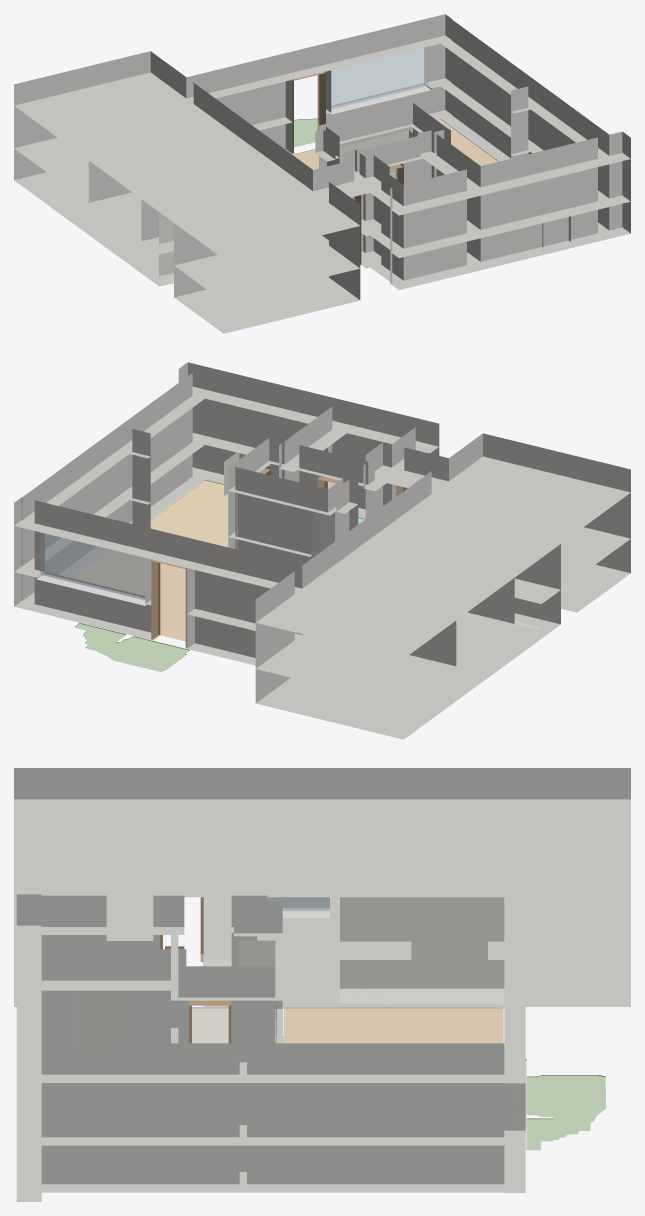
The picture shows the model from 3 angles, top to bottom: view 1: azimuth 30°, elevation 25°; view 2: azimuth 150°, elevation 25°; view 3: azimuth 270°, elevation 25°; orthographic projection. The views are drawn at different scales.
Visible parts, largest first — view 1: walls, window_2, floor_0_Living_Room, furniture_2_closet, sill_2, furniture_1_closet, door_0, floor_5_Outdoor; view 2: walls, window_2, floor_0_Living_Room, floor_2_Kitchen, floor_5_Outdoor, door_0, furniture_1_closet, sill_2; view 3: walls, furniture_0_closet, floor_0_Living_Room, floor_5_Outdoor, furniture_3_closet, floor_1_Entry, furniture_1_closet, window_6.
Part boxes in pixels (bbox=[...]): walls: bbox=[14, 14, 630, 333]; window_2: bbox=[327, 47, 427, 109]; floor_0_Living_Room: bbox=[292, 118, 498, 169]; furniture_2_closet: bbox=[159, 212, 173, 284]; sill_2: bbox=[330, 83, 431, 114]; furniture_1_closet: bbox=[339, 130, 416, 178]; door_0: bbox=[292, 71, 325, 153]; floor_5_Outdoor: bbox=[294, 118, 317, 147]; walls: bbox=[14, 362, 630, 739]; window_2: bbox=[40, 532, 145, 600]; floor_0_Living_Room: bbox=[72, 549, 185, 641]; floor_2_Kitchen: bbox=[150, 479, 228, 547]; floor_5_Outdoor: bbox=[74, 623, 189, 671]; door_0: bbox=[151, 559, 187, 648]; furniture_1_closet: bbox=[236, 494, 334, 555]; sill_2: bbox=[36, 572, 146, 605]; walls: bbox=[14, 768, 630, 1201]; furniture_0_closet: bbox=[340, 897, 504, 1004]; floor_0_Living_Room: bbox=[282, 1007, 503, 1043]; floor_5_Outdoor: bbox=[526, 1075, 606, 1150]; furniture_3_closet: bbox=[77, 990, 117, 1043]; floor_1_Entry: bbox=[192, 1007, 282, 1043]; furniture_1_closet: bbox=[238, 940, 276, 1042]; window_6: bbox=[267, 897, 329, 911].
Size of the model in its own units: 12.03 by 2.72 by 10.71.
